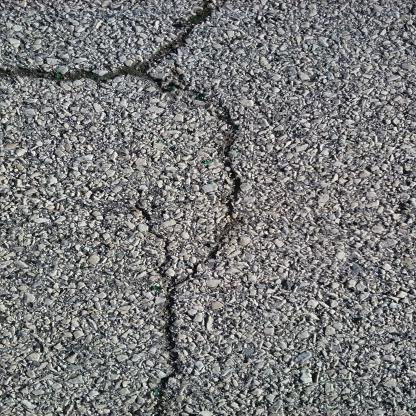Cracks: (120, 62, 255, 416), (0, 0, 231, 86)
